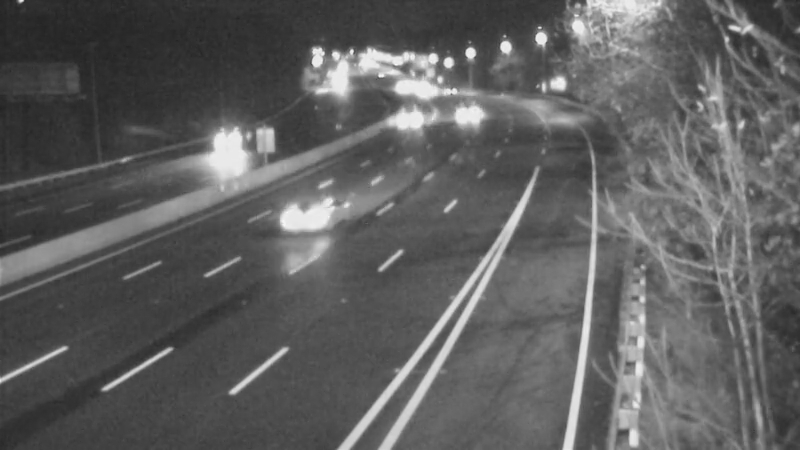vehicle: (272, 173, 352, 253), (423, 68, 473, 118), (440, 91, 490, 141), (383, 90, 433, 140), (199, 116, 249, 166)
